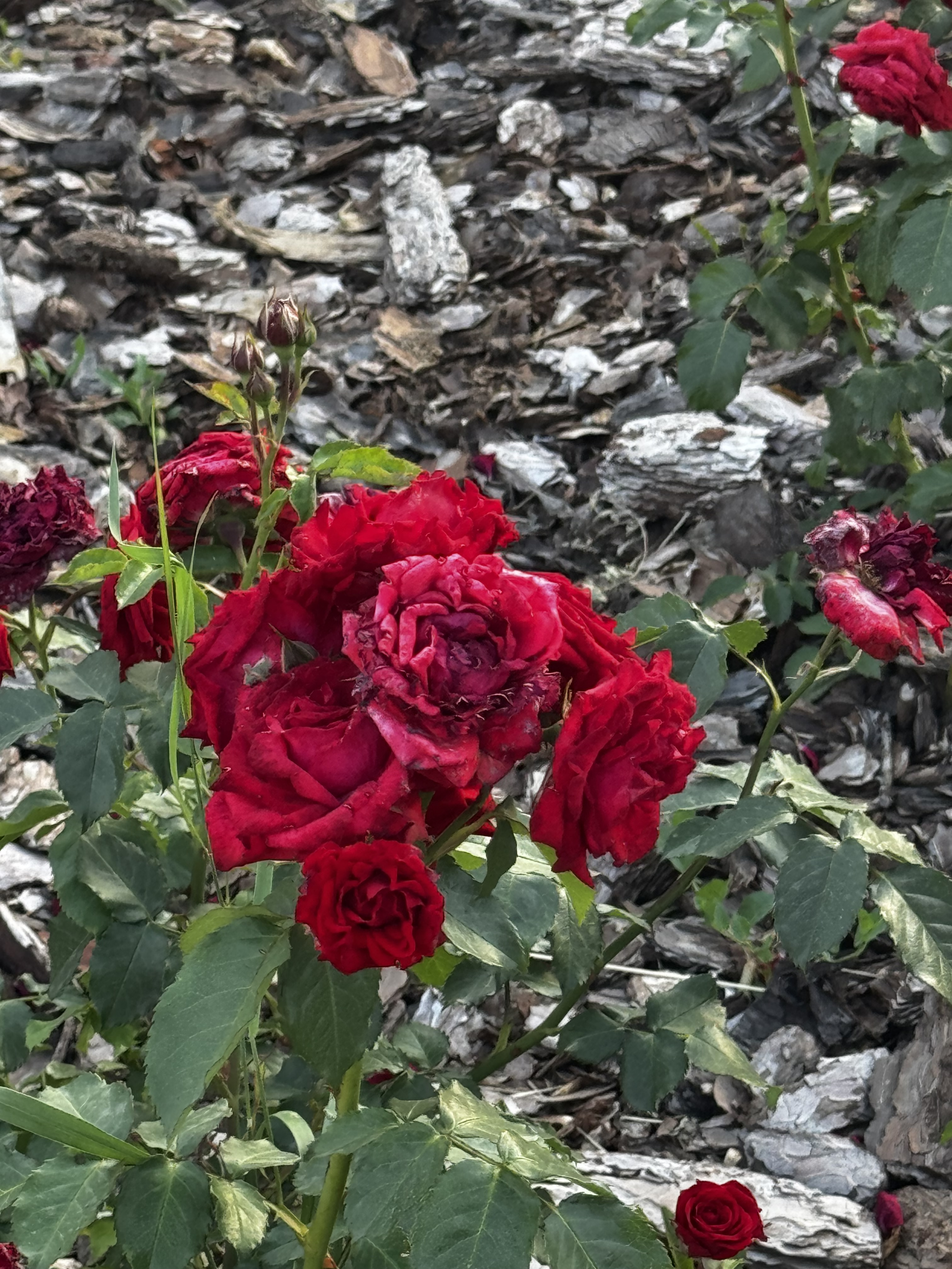rose: (88, 428, 312, 669), (351, 541, 565, 790), (195, 691, 480, 862), (532, 661, 716, 883), (266, 473, 510, 585), (165, 577, 324, 746), (291, 830, 456, 975), (827, 0, 949, 156), (652, 1163, 772, 1259)
